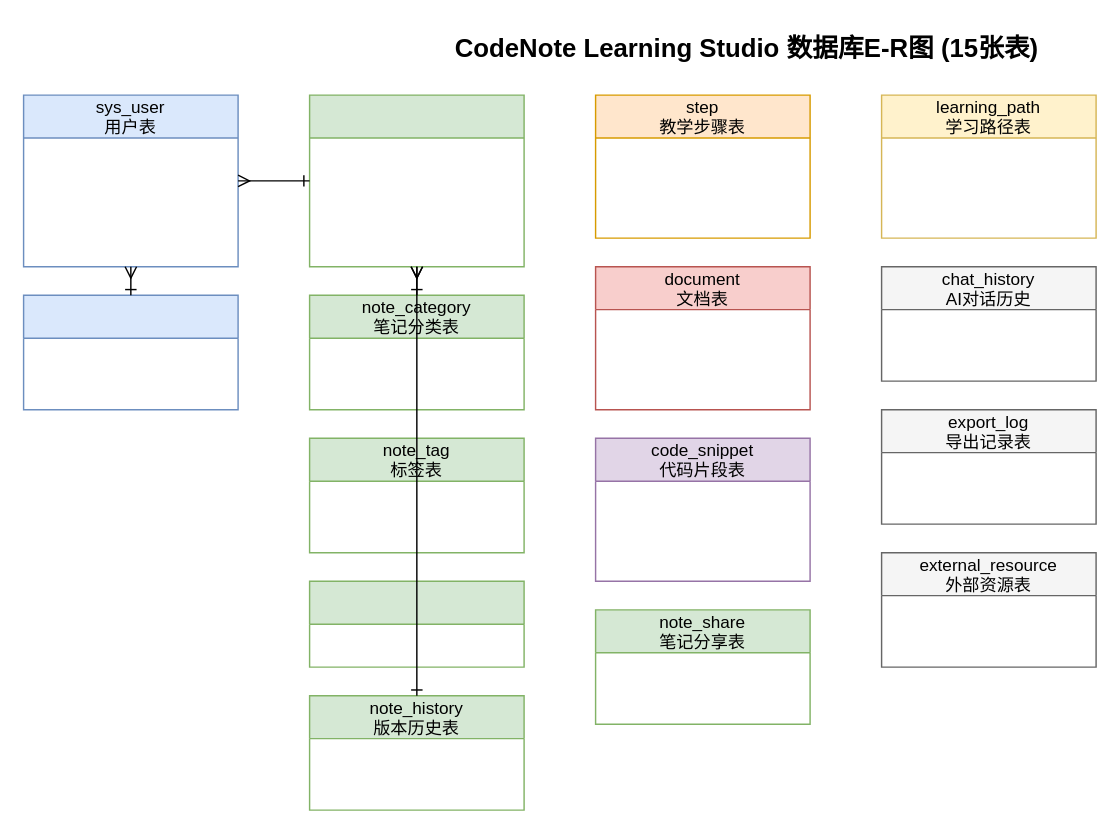
Some shapes in this 1120 by 834 pixel diagram are drawn without their labels. The centre of each missing label's shape, as x and y in pixels:
"note 笔记表" belongs at pixel 416 180.
"note_tag_relation 笔记标签关联" belongs at pixel 416 623.
"sys_log 操作日志表" belongs at pixel 130 352.
